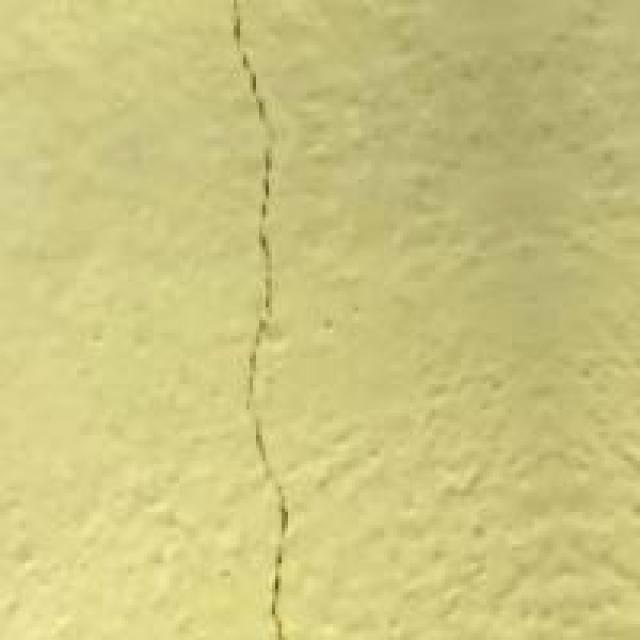crack: (206, 0, 328, 640)
